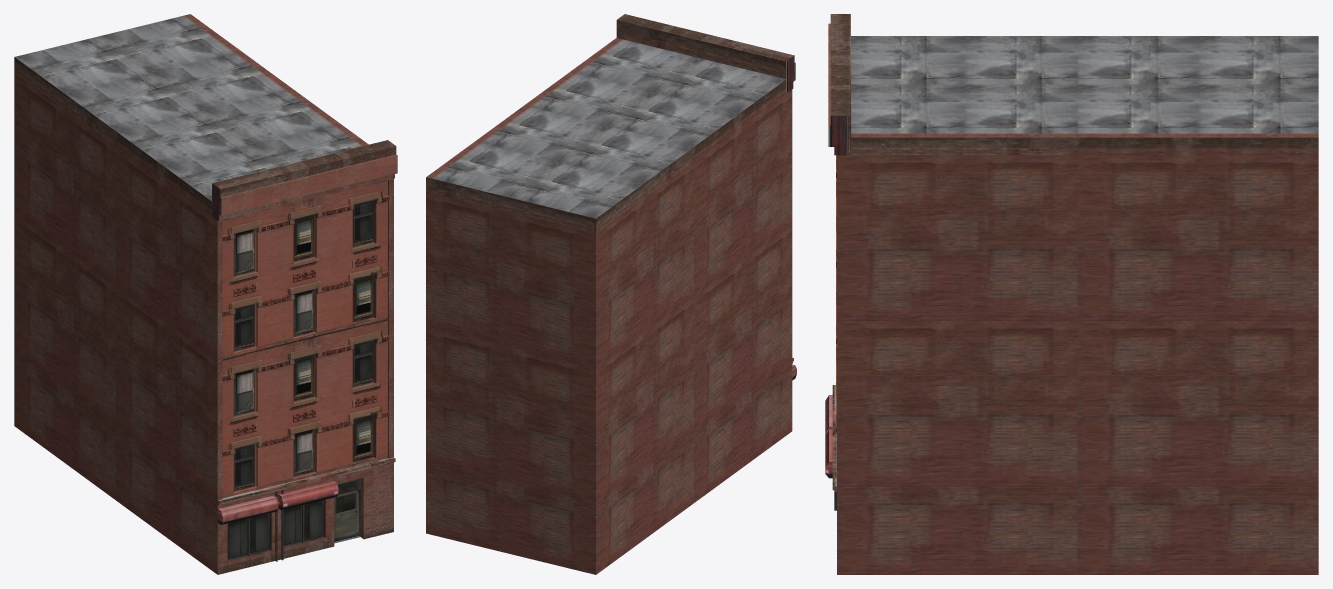
The model's file is building-sample-tower-d.glb.
The picture shows the model from 3 angles, left to right: view 1: azimuth 30°, elevation 25°; view 2: azimuth 150°, elevation 25°; view 3: azimuth 270°, elevation 25°; orthographic projection. The views are drawn at different scales.
Parts seen in each view (by area): view 1: building-sample-tower-d.001; view 2: building-sample-tower-d.001; view 3: building-sample-tower-d.001.
Part boxes in pixels (box(x1,y1,x2,y2)): building-sample-tower-d.001: box(14, 14, 397, 574); building-sample-tower-d.001: box(426, 14, 796, 574); building-sample-tower-d.001: box(825, 14, 1318, 574).
Bounding box in the file's own units: 1.1 × 2.31 × 2.25.
Materials: 2 (2 with a texture image).
